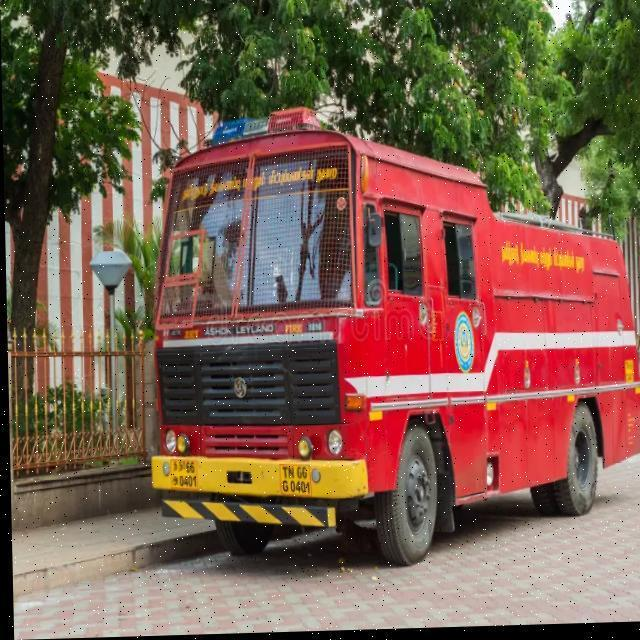Ambulance: (139, 98, 640, 578), (8, 442, 640, 638)
